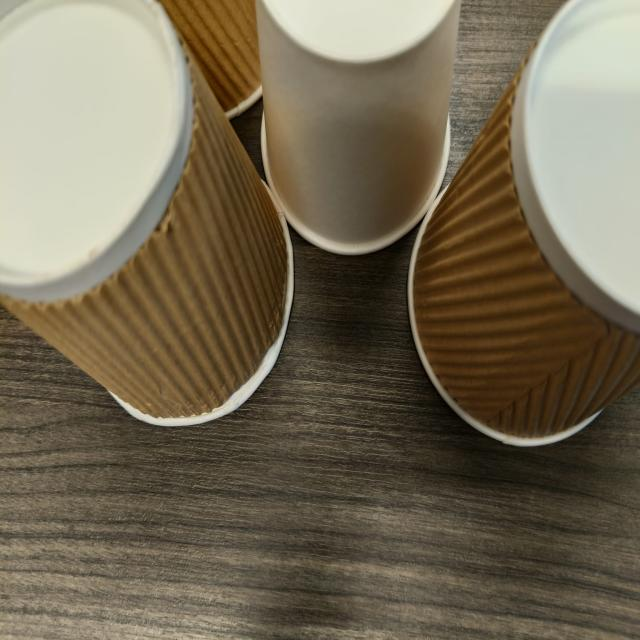Browncup: (2, 0, 296, 427), (411, 0, 640, 444), (160, 0, 260, 119)
Whitecup: (254, 0, 463, 258)
